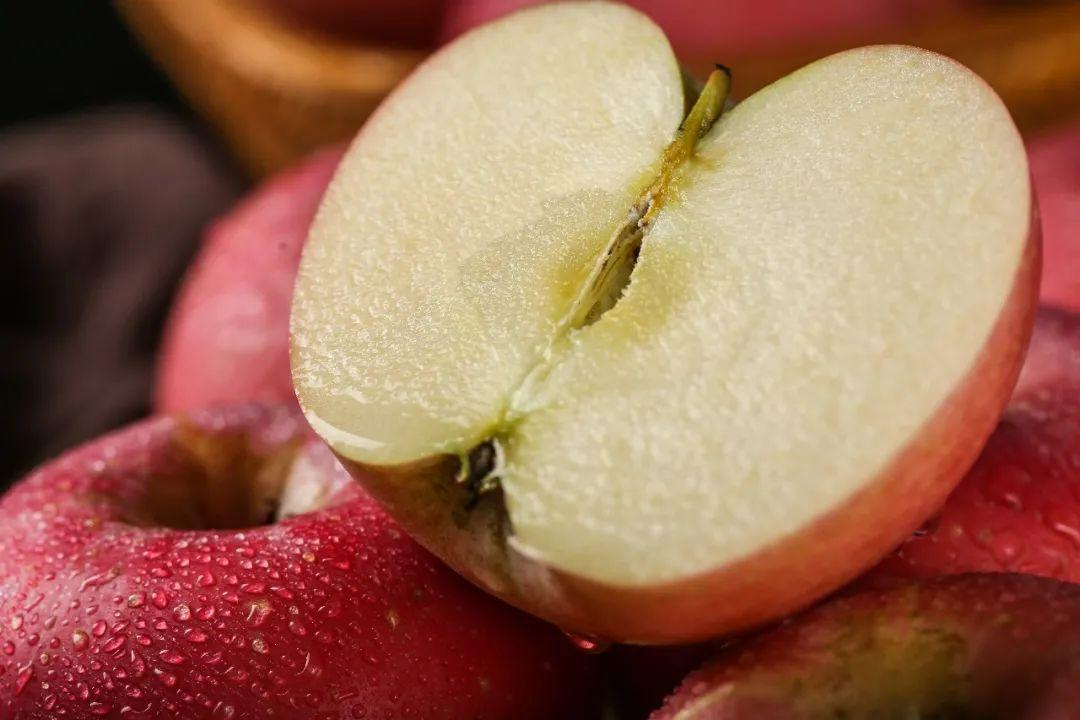apple: (5, 415, 601, 715)
